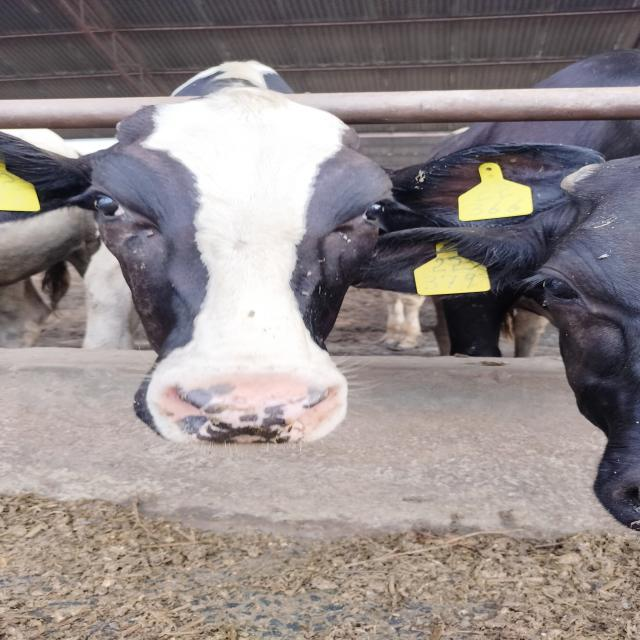muzzles: (142, 369, 352, 449)
